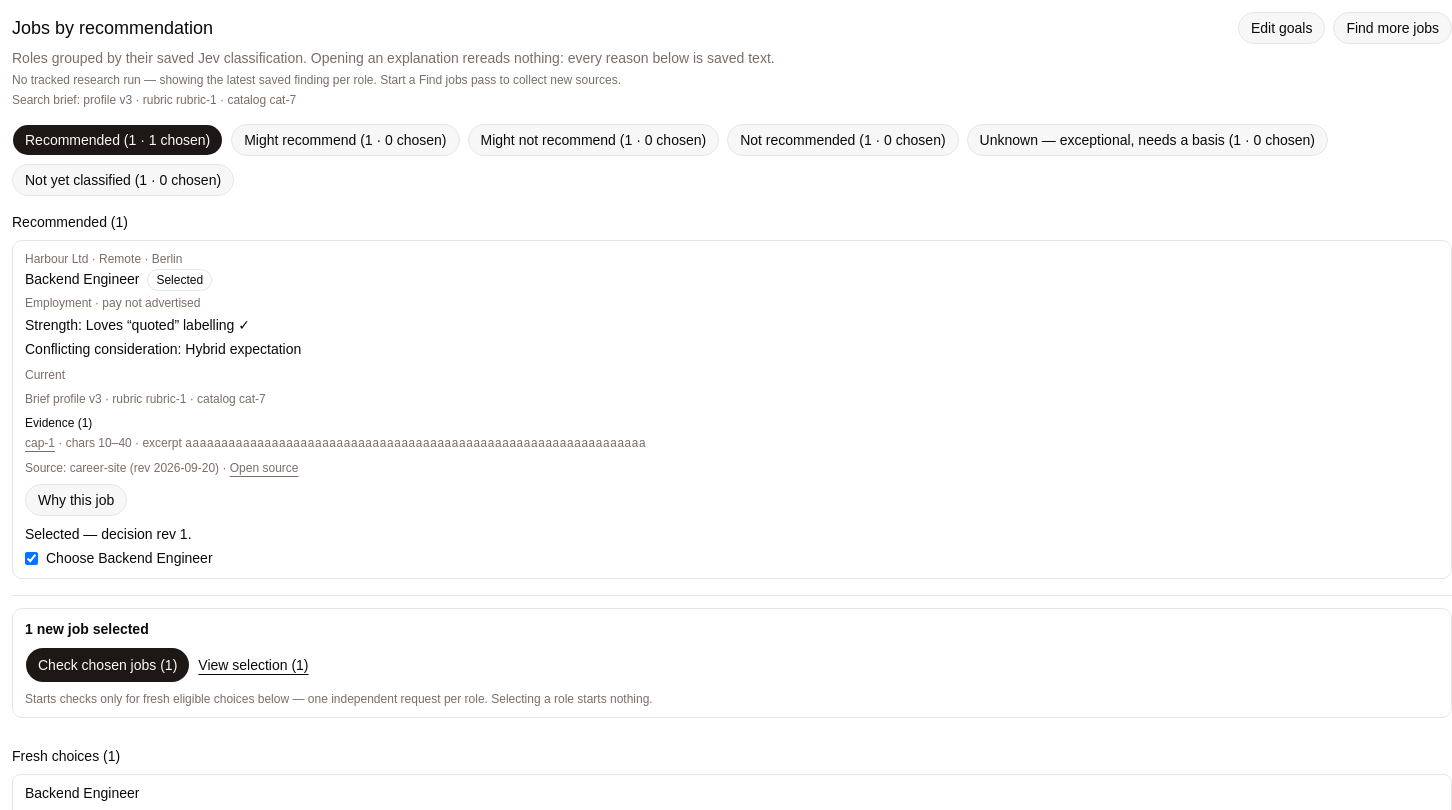
Test: GroupedJobs › dismisses a chosen job and updates the sticky count without starting a check
expect the button "Check chosen jobs (1)" is shown: met, box [25, 647, 190, 683]
Click the checkbox labelled "Choose Backend Engineer". click: {"x": 32, "y": 558}
box: [25, 552, 38, 564]
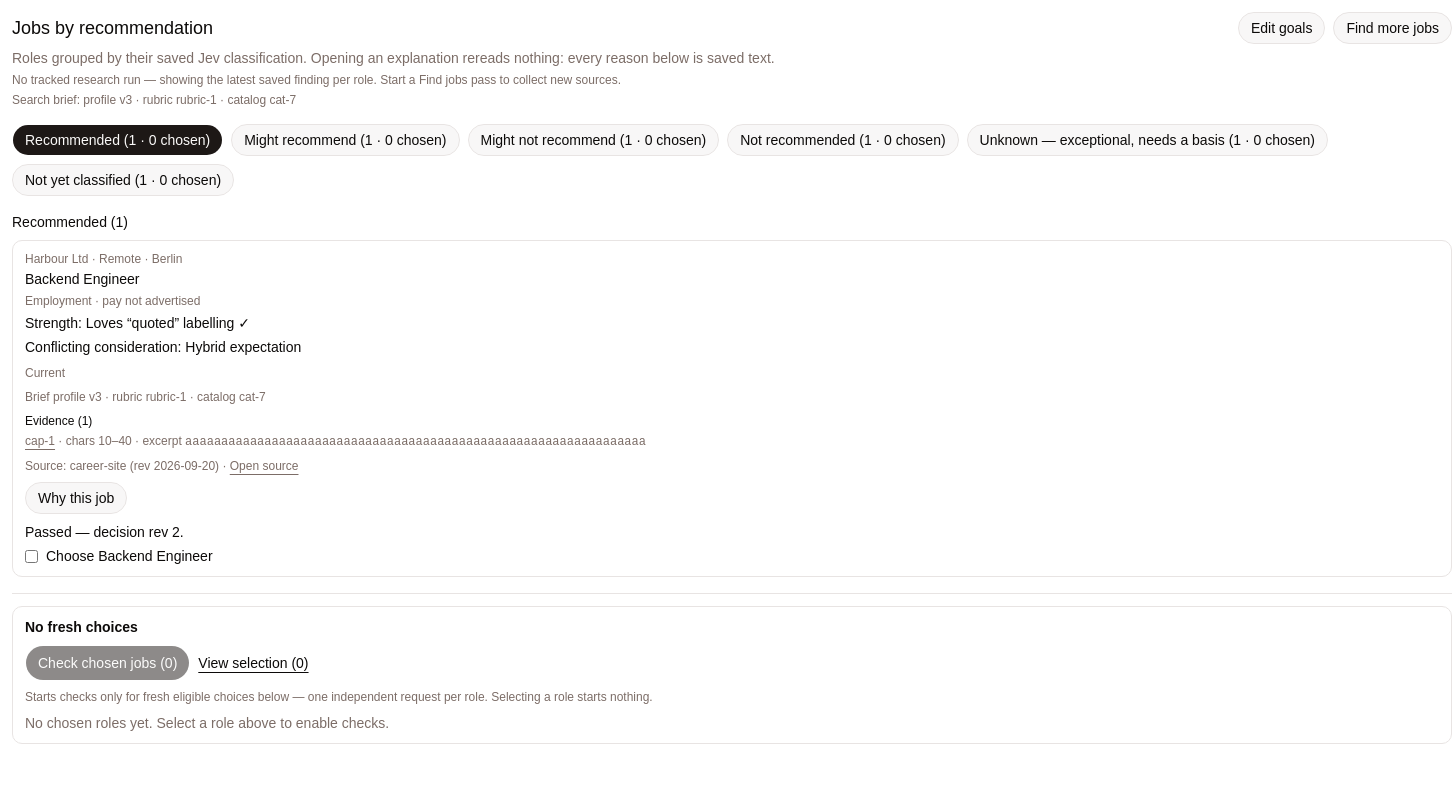
expect the checkbox labelled "Choose Backend Engineer" is not checked: met, box [25, 550, 38, 562]
expect the button "Check chosen jobs (0)" is shown: met, box [25, 645, 190, 681]
expect the text "Passed — decision rev 2." is shown: met, box [25, 524, 184, 540]
